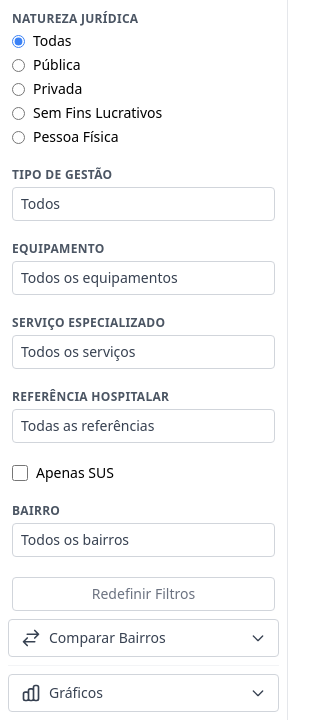
Scenario: FilterPanel › interações com multiselect › exibe o nome da cidade ao lado do bairro nas opções
(page scrolled)
Click the button labelled "Todos os bairros" at (75, 540), box [12,523,275,557]
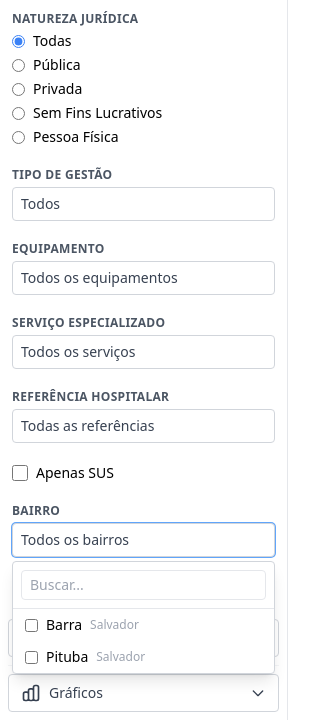
Check: the label "Pituba" is shown, box [46,647,88,666]
Check: the label "Pituba" shows "Salvador", box [96,648,145,665]
